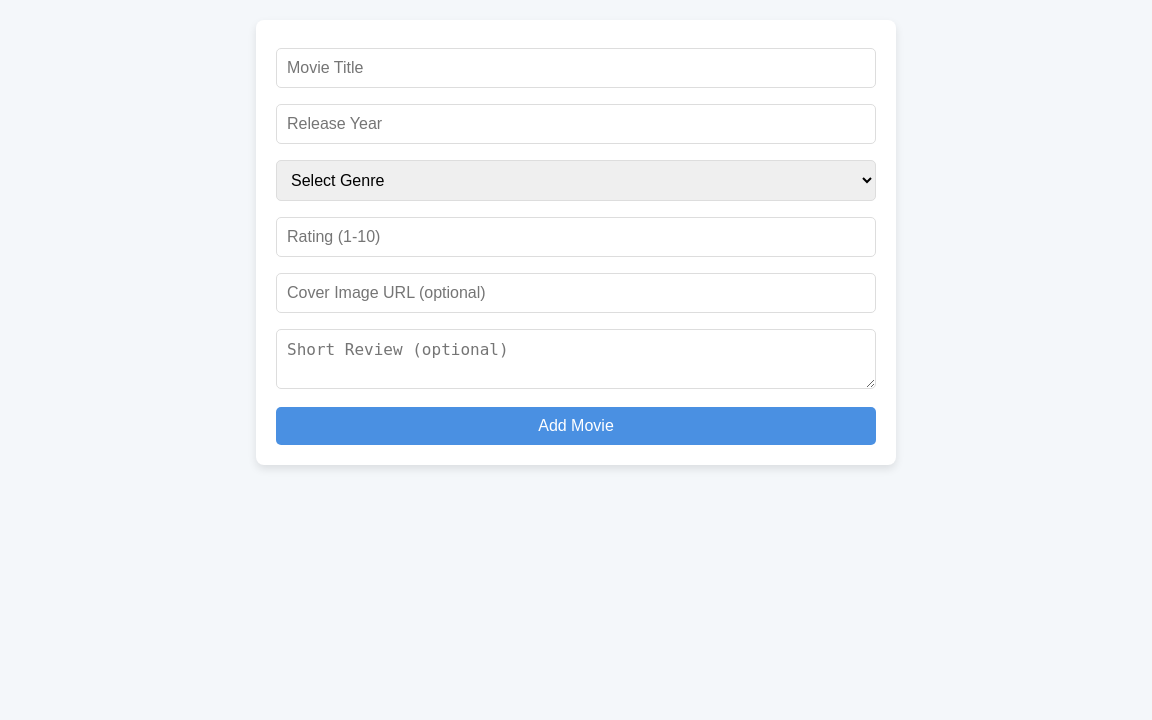
Test case: MovieForm Component › closes the popup when the close button is clicked
Type "Test Movie" into the field with placeholder "Movie Title" at (576, 68), box [276,48,876,88]
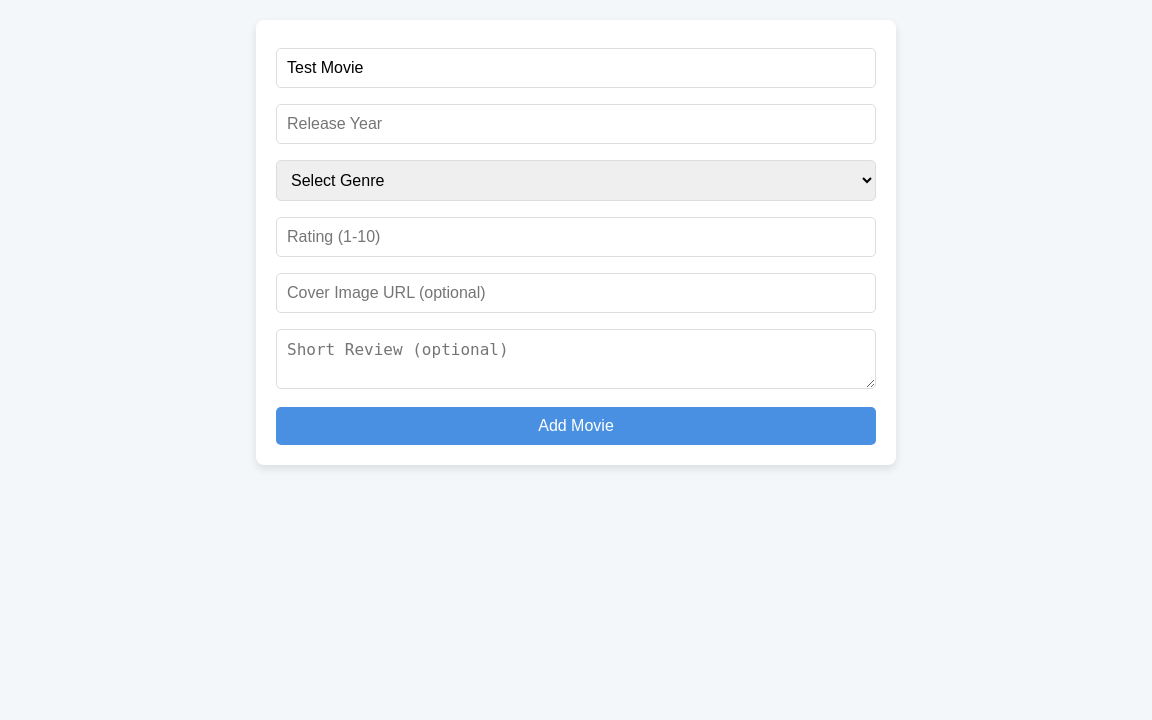
Type "2022" into the number field with placeholder "Release Year" at (576, 124), box [276,104,876,144]
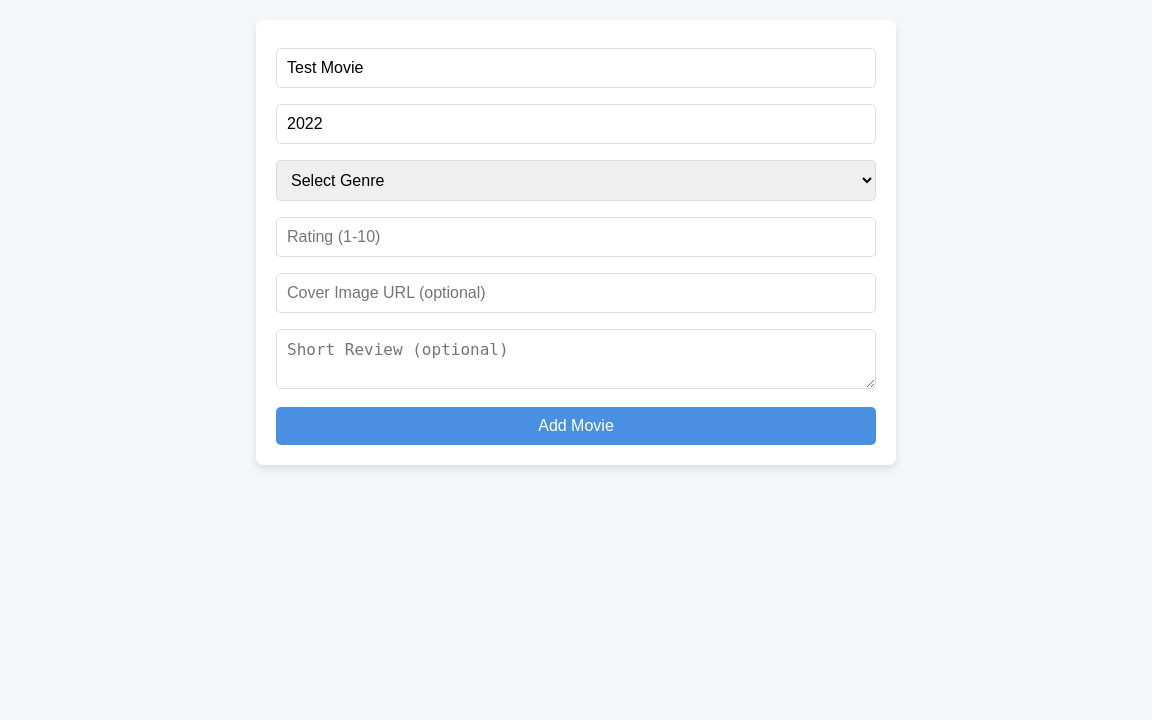
Select "Action" in the dropdown at (576, 180), box [276,160,876,201]
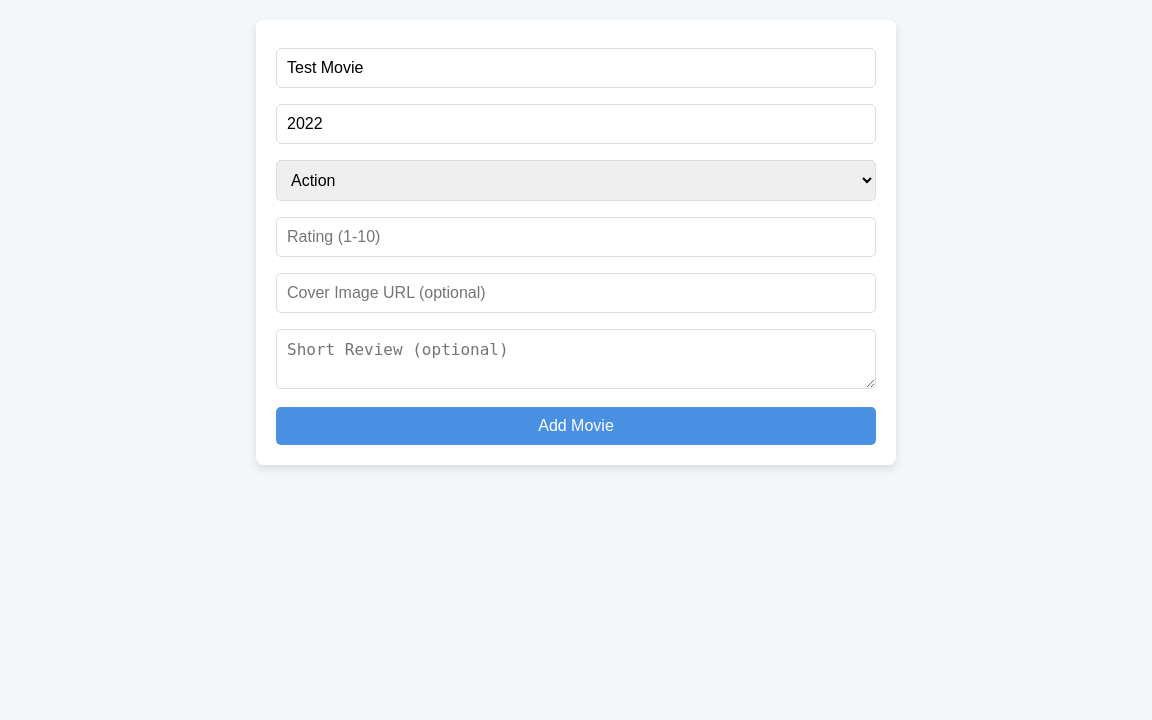
Type "8" into the number field with placeholder "Rating (1-10)" at (576, 237), box [276,217,876,257]
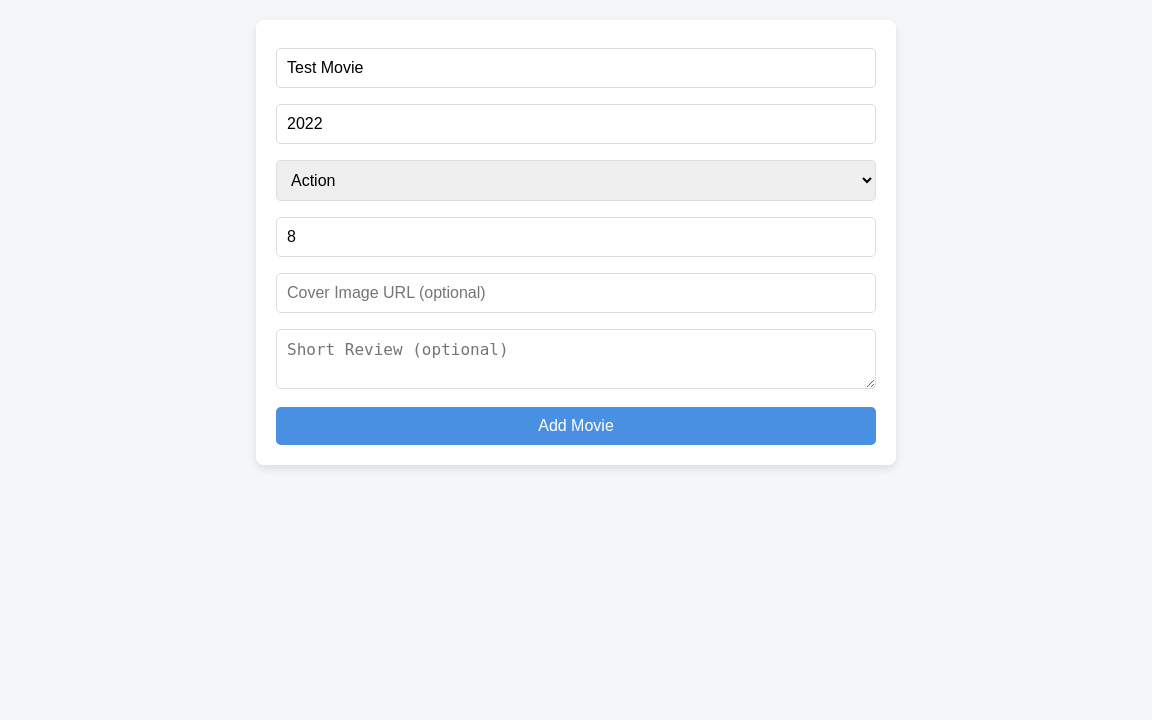
Click the button "Add Movie" at (576, 426), box [276,407,876,445]
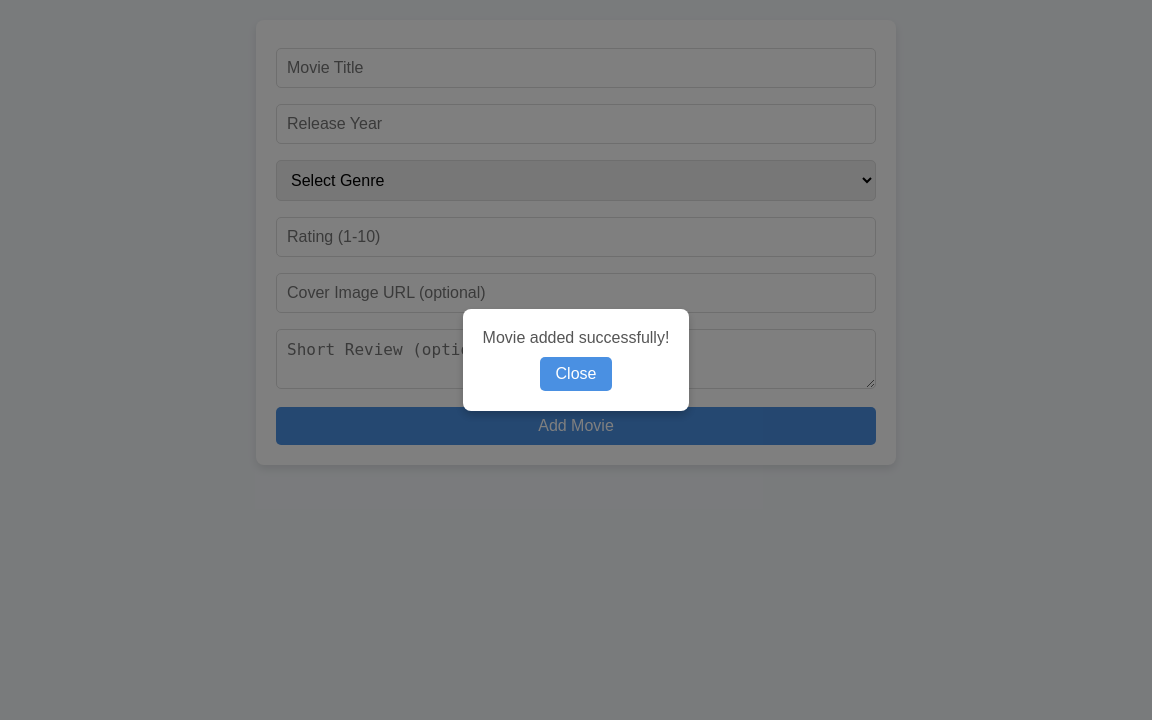
Click the button "Close" at (576, 374), box [540,357,612,391]
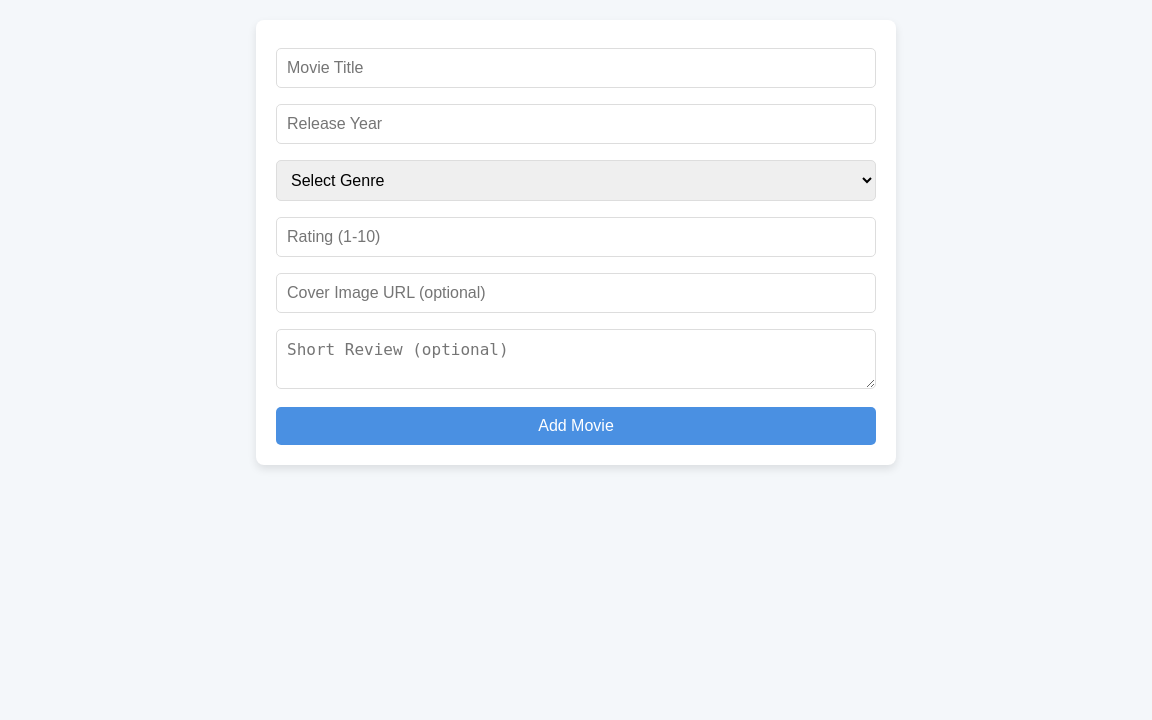
Now the text "Movie added successfully!" is gone
